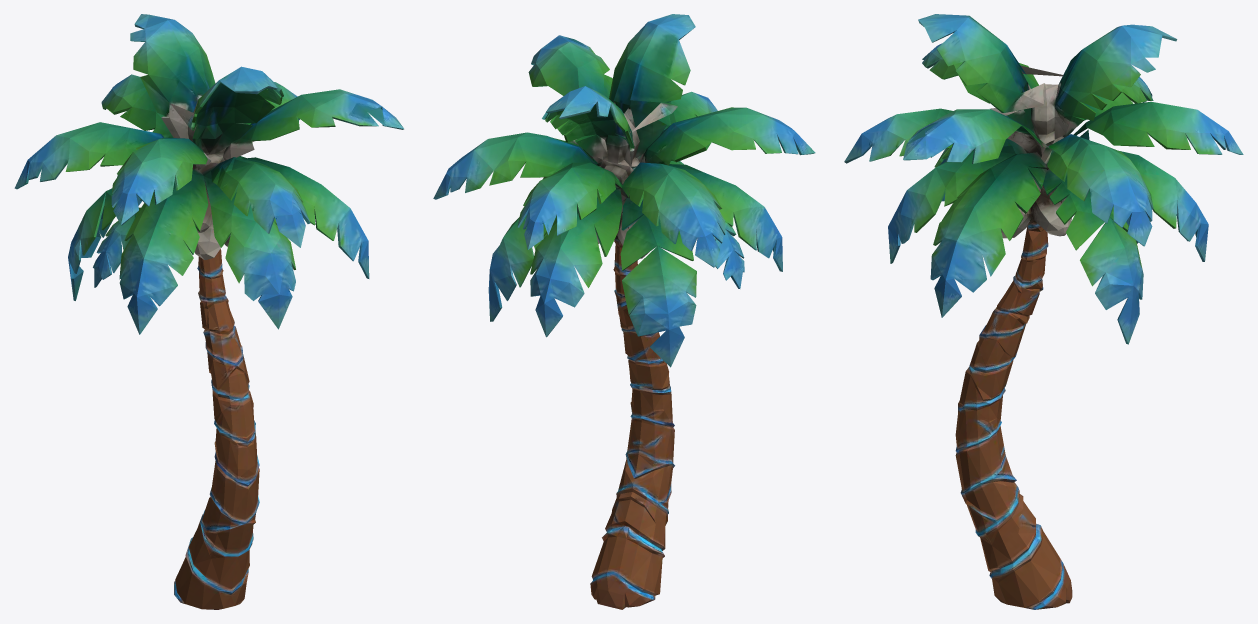
File: tree_palm_LOD0.glb
3 renders of one model, left to right at view 1: azimuth 30°, elevation 25°; view 2: azimuth 150°, elevation 25°; view 3: azimuth 270°, elevation 25°, orthographic. The views are drawn at different scales.
Visible parts, largest first — view 1: tree_palm_LOD0; view 2: tree_palm_LOD0; view 3: tree_palm_LOD0.
Part boxes in pixels (left/top/right/bottom): tree_palm_LOD0: left=14, top=14, right=403, bottom=609; tree_palm_LOD0: left=433, top=14, right=815, bottom=609; tree_palm_LOD0: left=844, top=14, right=1243, bottom=609.
Size of the model in its own units: 0.5382 by 0.998 by 0.6242.
Materials: 1 (1 with a texture image).
